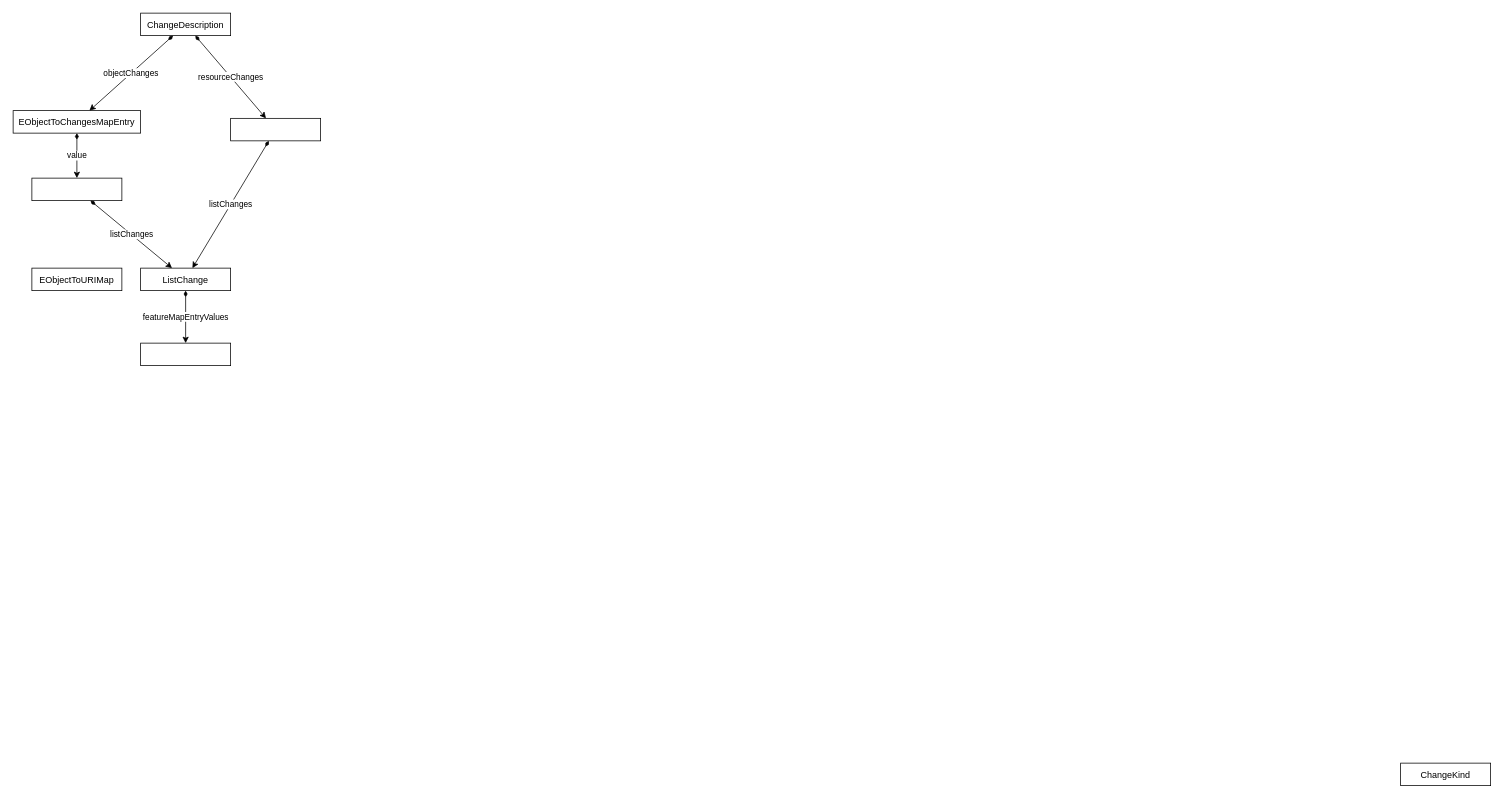
The diagram is 1504 pixels wide and 799 high, and some of its shapes have lost their labels. Each missing label, with the centre of its shape:
FeatureChange: point 76,189
FeatureMapEntry: point 185,354
ResourceChange: point 275,129
